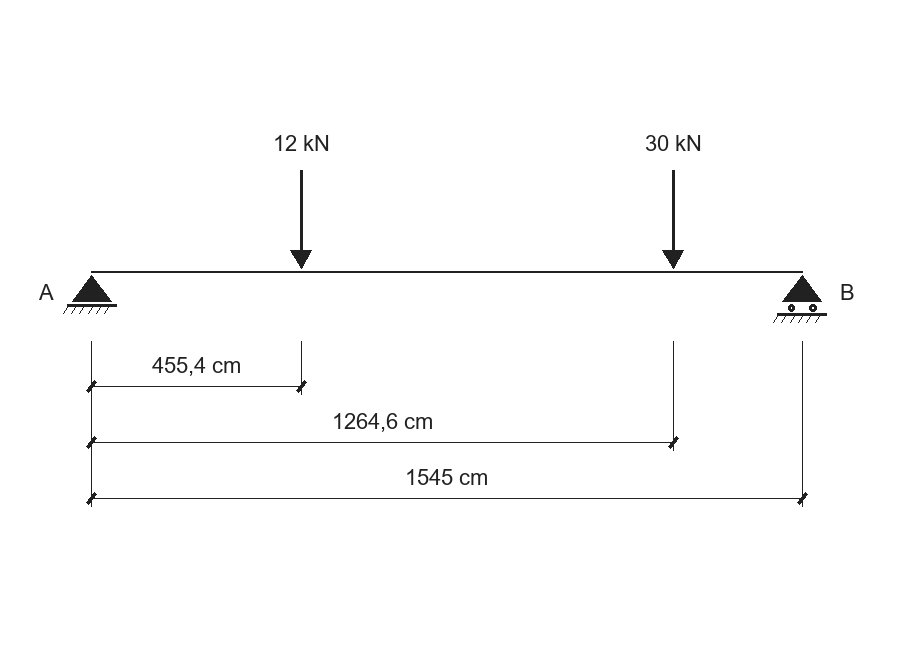pin_support: (63, 275, 117, 314)
point_load: (290, 170, 312, 269), (662, 170, 684, 269)
roller_support: (773, 275, 827, 323)
